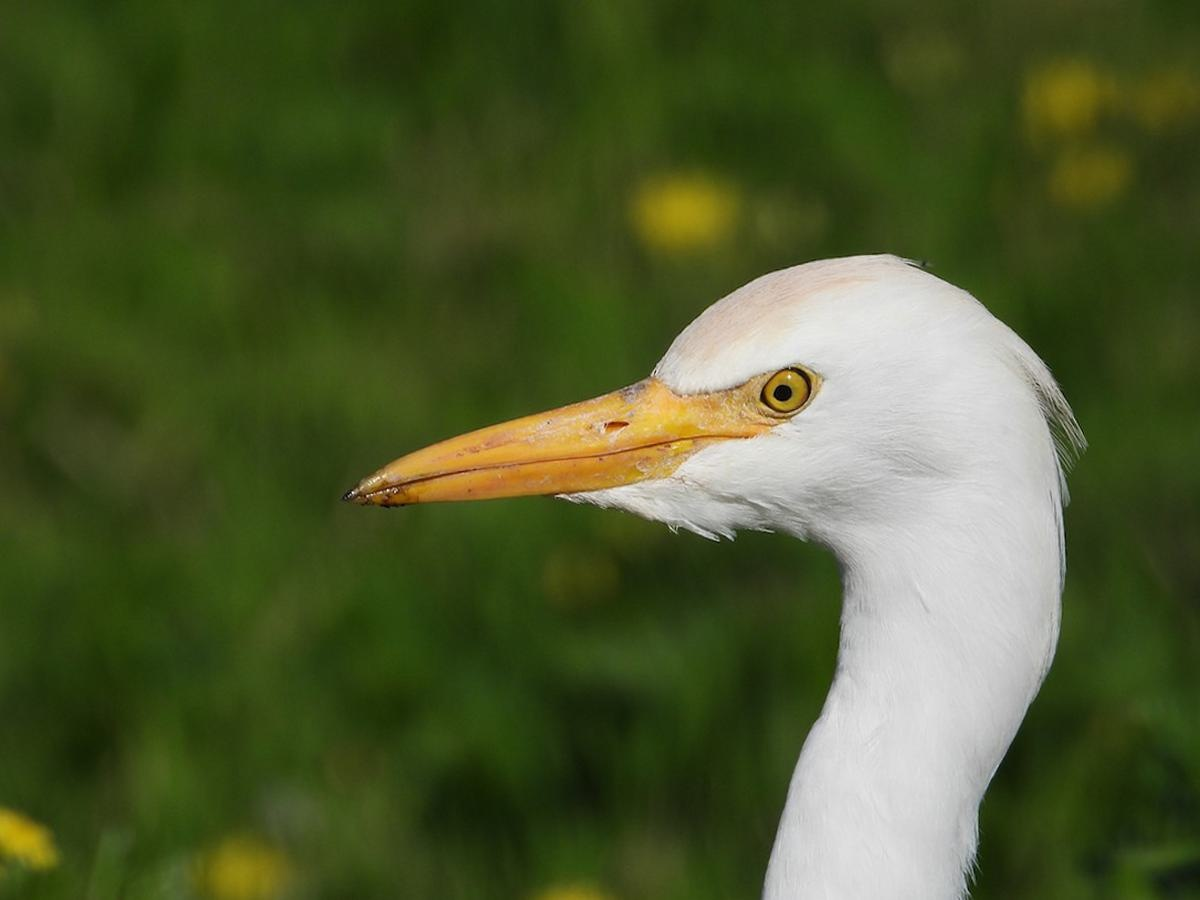egret: (345, 243, 1111, 881)
